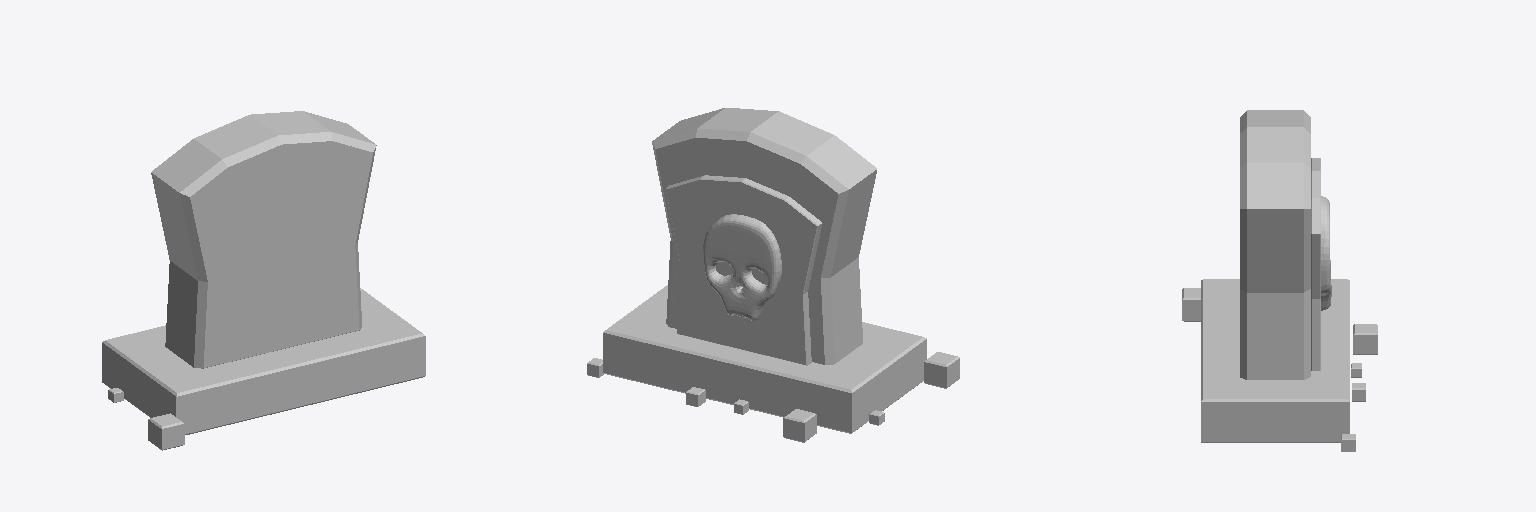
The model's file is miLapida.obj.
3 views of the same model, side by side, from view 1: azimuth 30°, elevation 25°; view 2: azimuth 150°, elevation 25°; view 3: azimuth 270°, elevation 25° (orthographic).
Visible parts, largest first — view 1: stylized_tomb; view 2: stylized_tomb; view 3: stylized_tomb.
Boxes of the visible parts, box(x1,y1,x2,y2) form: stylized_tomb: box(102, 111, 425, 450); stylized_tomb: box(587, 108, 959, 442); stylized_tomb: box(1182, 110, 1377, 451).
Size of the model in its own units: 6.76 by 5.92 by 3.99.